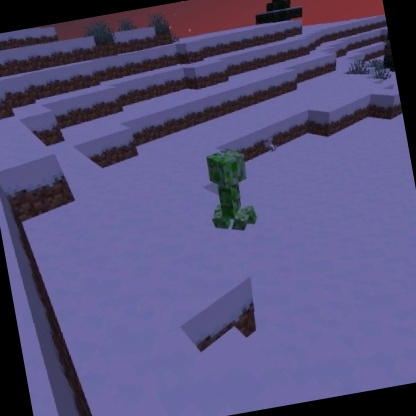creeper: (197, 143, 261, 239)
